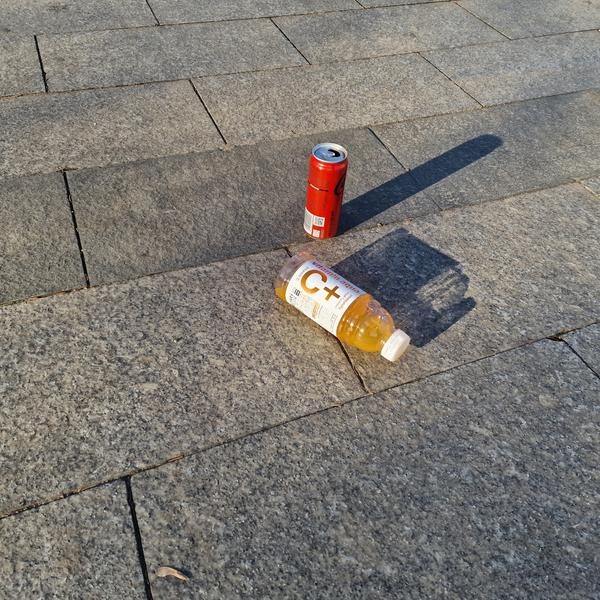can: (298, 140, 351, 242)
plastic_bottle: (265, 246, 421, 373)
